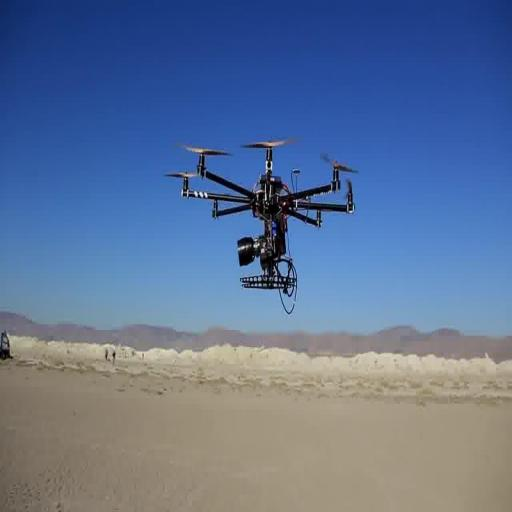drone: (173, 134, 357, 293)
